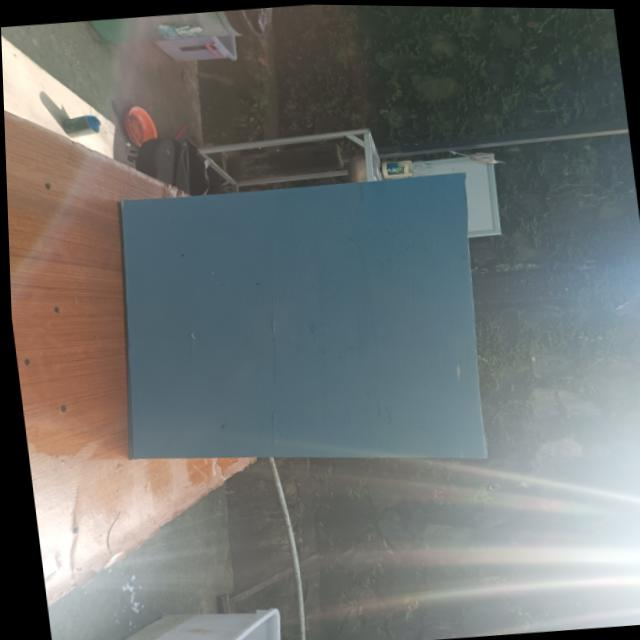blue_box: (104, 158, 481, 484)
